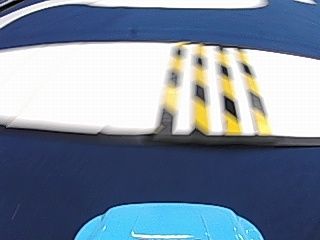bump: (163, 49, 259, 132)
